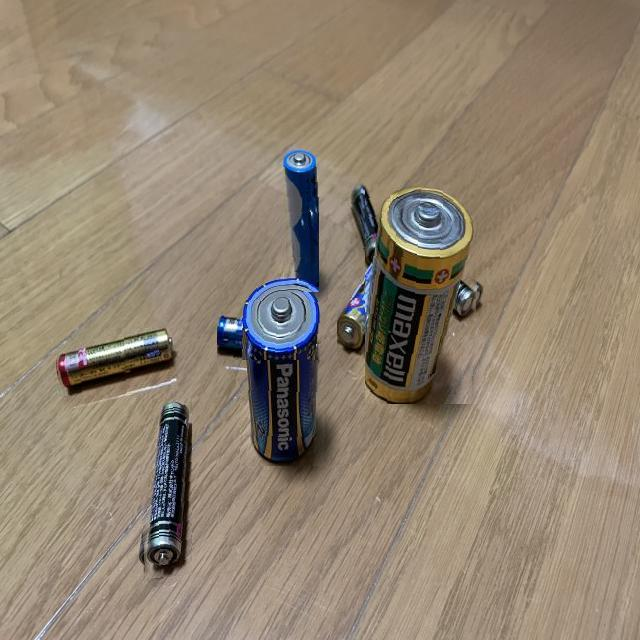battery: (366, 168, 484, 404), (240, 277, 328, 466), (136, 400, 192, 580), (55, 328, 179, 396), (337, 252, 415, 360), (276, 144, 320, 292), (218, 310, 332, 360), (344, 178, 400, 270), (454, 262, 489, 316)
